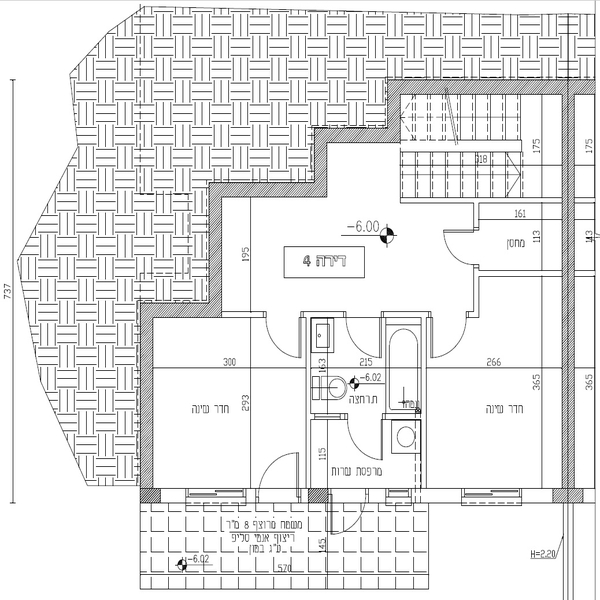door: (342, 407, 385, 463), (322, 490, 368, 542), (262, 303, 302, 362), (342, 310, 387, 362), (257, 447, 302, 498), (426, 310, 468, 361), (437, 224, 486, 267)
room: (202, 174, 577, 292), (137, 297, 311, 512), (419, 264, 573, 503), (302, 309, 428, 508), (392, 74, 569, 205)
wall: (561, 94, 576, 486), (391, 74, 597, 96), (137, 315, 157, 500), (302, 313, 315, 484), (314, 120, 402, 144), (206, 179, 221, 302), (212, 180, 326, 194), (403, 195, 561, 204), (137, 301, 224, 317), (385, 79, 406, 142), (310, 124, 327, 194), (479, 269, 567, 280), (420, 487, 466, 507), (522, 486, 550, 507), (221, 309, 267, 321), (423, 313, 426, 486), (552, 487, 584, 503), (305, 308, 347, 319), (307, 484, 329, 504), (387, 312, 428, 321), (471, 278, 480, 317)
window: (187, 487, 248, 509), (462, 486, 524, 505)
